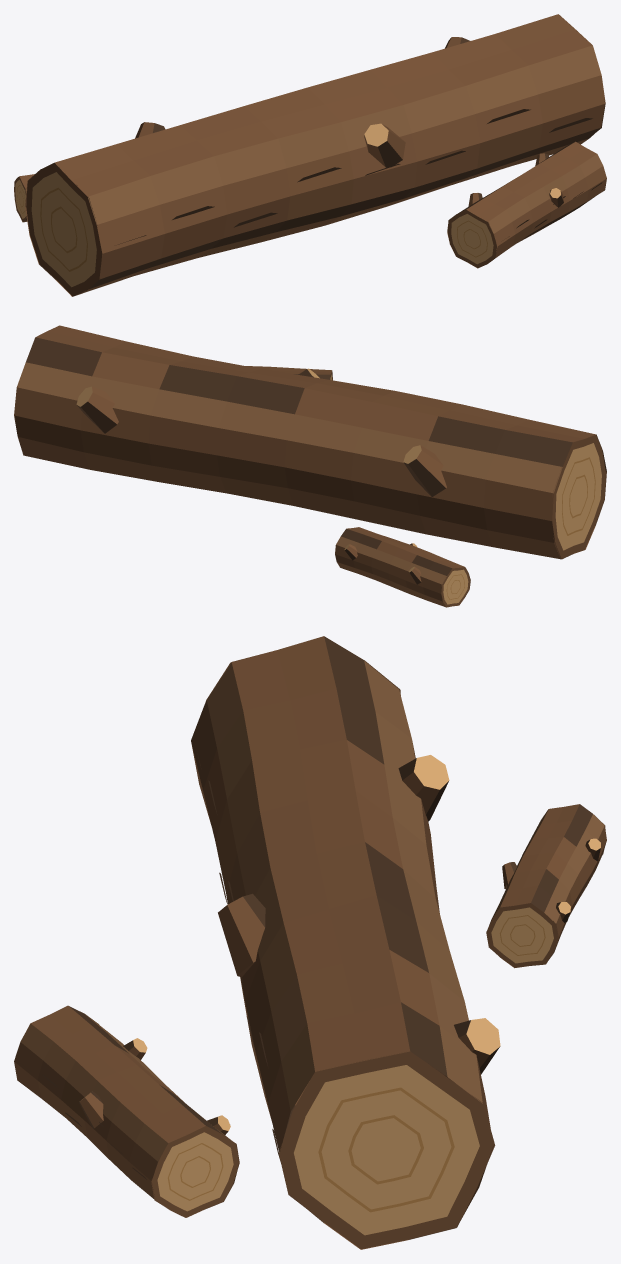
The model's file is log_two_lane_A.glb.
The picture shows the model from 3 angles, top to bottom: view 1: azimuth 30°, elevation 25°; view 2: azimuth 150°, elevation 25°; view 3: azimuth 270°, elevation 25°; orthographic projection. The views are drawn at different scales.
Visible parts, largest first — view 1: log_two_lane_A; view 2: log_two_lane_A; view 3: log_two_lane_A.
Part boxes in pixels (x1,y1,x2,y2): log_two_lane_A: (14, 14, 606, 296); log_two_lane_A: (14, 325, 606, 607); log_two_lane_A: (14, 636, 606, 1249).
Size of the model in its own units: 4.87 by 1.09 by 2.89.
